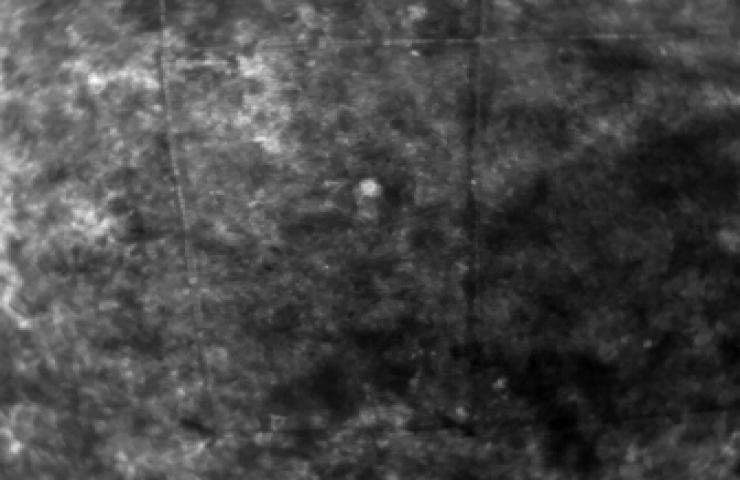landmines: (358, 177, 385, 200)
